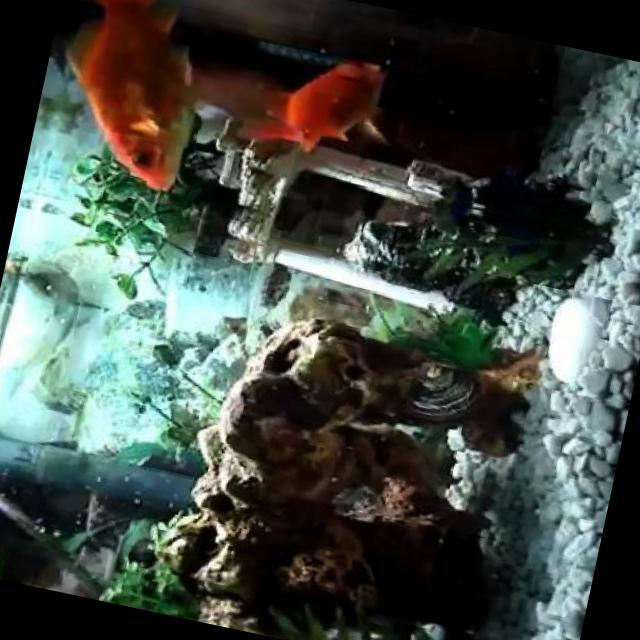GoldFish: (38, 0, 222, 195), (236, 33, 400, 172)
